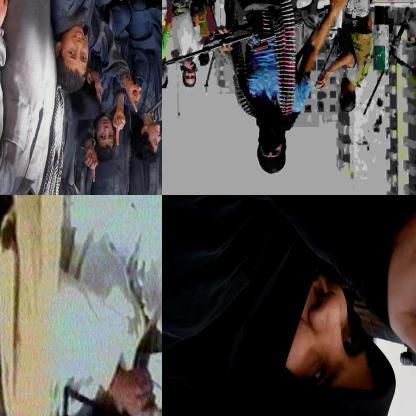rifle: (162, 0, 342, 70), (336, 254, 415, 406), (61, 337, 161, 415), (142, 12, 161, 122)
